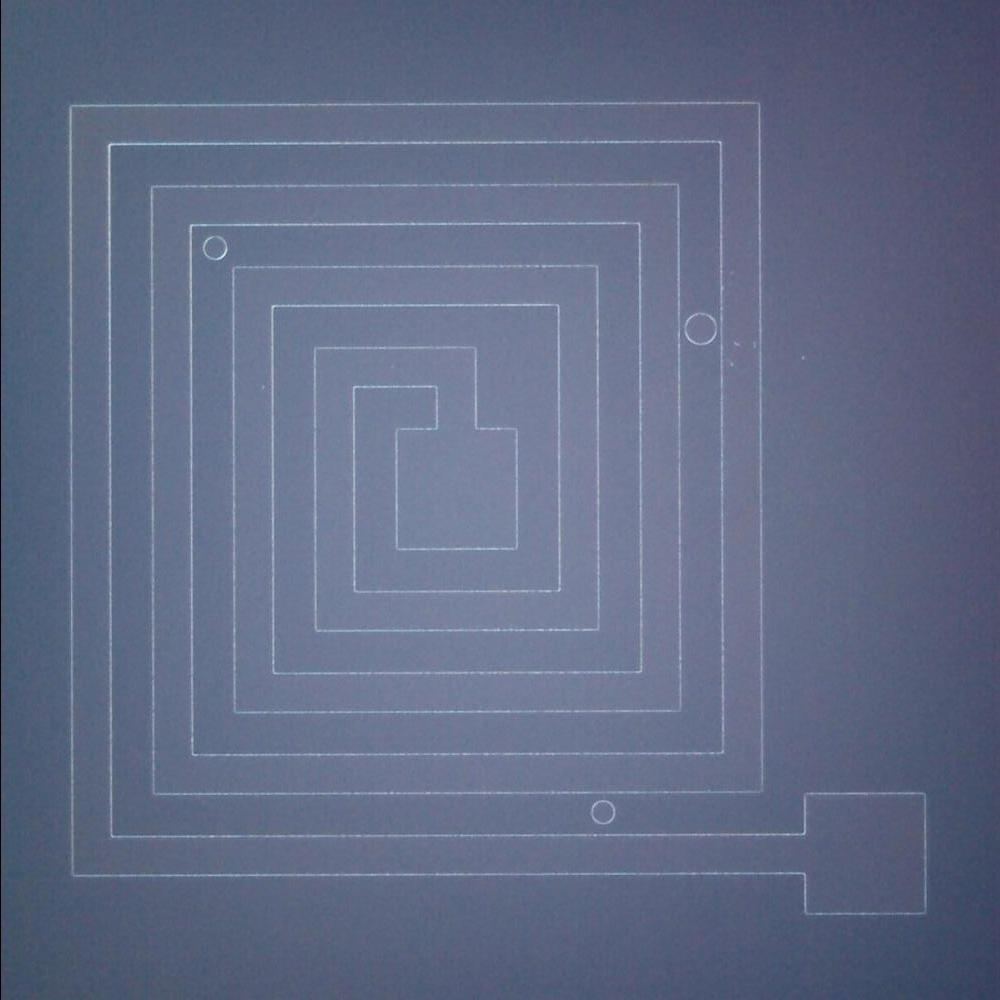circle: (682, 304, 718, 352), (198, 230, 231, 267), (590, 796, 618, 828)
